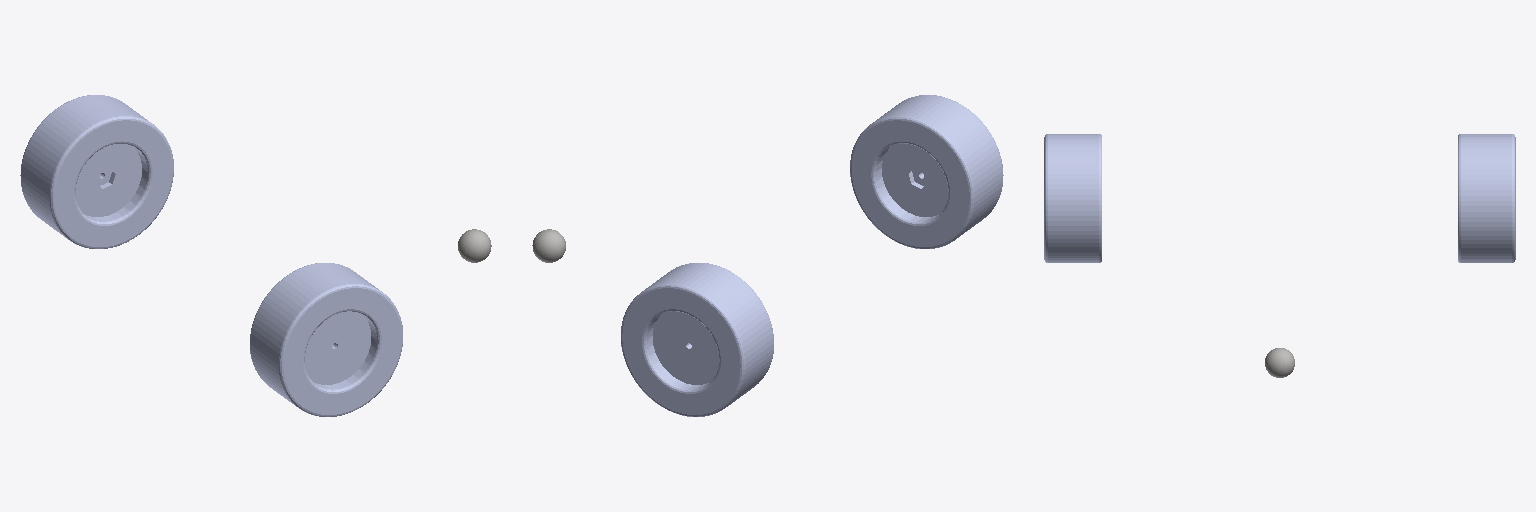
The robot description file, URDF, robot "uvc_robot":
<?xml version="1.0" encoding="utf-8"?>
<!-- This URDF was automatically created by SolidWorks to URDF Exporter! Originally created by [author] ([email redacted]) 
     Commit Version: 1.6.0-1-g15f4949  Build Version: 1.6.7594.29634
     For more information, please see http://wiki.ros.org/sw_urdf_exporter -->
<robot
  name="uvc_robot">
  <link
    name="base_link">
    <inertial>
      <origin
        xyz="-0.00241248593055055 -0.00445381846492179 0.21144900187448"
        rpy="0 0 0" />
      <mass
        value="11.4280367814686" />
      <inertia
        ixx="0.182172266196687"
        ixy="-0.00038888639424007"
        ixz="0.000144418398704185"
        iyy="0.176671114005378"
        iyz="-4.59187018700196E-05"
        izz="0.122918657382842" />
    </inertial>
    <visual>
      <origin
        xyz="0 0 0"
        rpy="0 0 0" />
      <geometry>
        <mesh
          filename="package://uvc_robot_detailed_description/meshes/base_link.STL" />
      </geometry>
      <material
        name="">
        <color
          rgba="0.752941176470588 0.752941176470588 0.752941176470588 1" />
      </material>
    </visual>
    <collision>
      <origin
        xyz="0 0 0"
        rpy="0 0 0" />
      <geometry>
        <mesh
          filename="package://uvc_robot_detailed_description/meshes/base_link.STL" />
      </geometry>
    </collision>
  </link>
  <link
    name="left_wheel">
    <inertial>
      <origin
        xyz="8.7649354441055E-09 -0.00997993671802441 1.38777878078145E-17"
        rpy="0 0 0" />
      <mass
        value="0.166339919940139" />
      <inertia
        ixx="0.000101688927956429"
        ixy="-5.99217070388686E-11"
        ixz="1.02384751853912E-21"
        iyy="0.000169917022931273"
        iyz="2.00388360795128E-21"
        izz="0.000101688927956377" />
    </inertial>
    <visual>
      <origin
        xyz="0 0 0"
        rpy="0 0 0" />
      <geometry>
        <mesh
          filename="package://uvc_robot_detailed_description/meshes/left_wheel.STL" />
      </geometry>
      <material
        name="">
        <color
          rgba="0.792156862745098 0.819607843137255 0.933333333333333 1" />
      </material>
    </visual>
    <collision>
      <origin
        xyz="0 0 0"
        rpy="0 0 0" />
      <geometry>
        <mesh
          filename="package://uvc_robot_detailed_description/meshes/left_wheel.STL" />
      </geometry>
    </collision>
  </link>
  <joint
    name="left_joint"
    type="continuous">
    <origin
      xyz="-0.084764 0.14591 0.0155"
      rpy="0 0 0" />
    <parent
      link="base_link" />
    <child
      link="left_wheel" />
    <axis
      xyz="0 -1 0" />
    <limit
      effort="10"
      velocity="10" />
  </joint>
  <link
    name="right_wheel">
    <inertial>
      <origin
        xyz="-8.7649353330832E-09 0.00997993671802444 0"
        rpy="0 0 0" />
      <mass
        value="0.166339919940139" />
      <inertia
        ixx="0.000101688927956429"
        ixy="-5.99217070341858E-11"
        ixz="3.56666708735343E-21"
        iyy="0.000169917022931273"
        iyz="-4.05548364010479E-21"
        izz="0.000101688927956377" />
    </inertial>
    <visual>
      <origin
        xyz="0 0 0"
        rpy="0 0 0" />
      <geometry>
        <mesh
          filename="package://uvc_robot_detailed_description/meshes/right_wheel.STL" />
      </geometry>
      <material
        name="">
        <color
          rgba="0.792156862745098 0.819607843137255 0.933333333333333 1" />
      </material>
    </visual>
    <collision>
      <origin
        xyz="0 0 0"
        rpy="0 0 0" />
      <geometry>
        <mesh
          filename="package://uvc_robot_detailed_description/meshes/right_wheel.STL" />
      </geometry>
    </collision>
  </link>
  <joint
    name="right_joint"
    type="continuous">
    <origin
      xyz="-0.084764 -0.14609 0.0155"
      rpy="0 0 0" />
    <parent
      link="base_link" />
    <child
      link="right_wheel" />
    <axis
      xyz="0 -1 0" />
    <limit
      effort="10"
      velocity="10" />
  </joint>
  <link
    name="caster_wheel">
    <inertial>
      <origin
        xyz="0 -3.46944695195361E-18 0"
        rpy="0 0 0" />
      <mass
        value="0.0328820031075732" />
      <inertia
        ixx="1.31528012430293E-06"
        ixy="-7.87848134036453E-23"
        ixz="5.22254132630542E-23"
        iyy="1.31528012430293E-06"
        iyz="-4.4156881248831E-23"
        izz="1.31528012430293E-06" />
    </inertial>
    <visual>
      <origin
        xyz="0 0 0"
        rpy="0 0 0" />
      <geometry>
        <mesh
          filename="package://uvc_robot_detailed_description/meshes/caster_wheel.STL" />
      </geometry>
      <material
        name="">
        <color
          rgba="0.741176470588235 0.733333333333333 0.725490196078431 1" />
      </material>
    </visual>
    <collision>
      <origin
        xyz="0 0 0"
        rpy="0 0 0" />
      <geometry>
        <mesh
          filename="package://uvc_robot_detailed_description/meshes/caster_wheel.STL" />
      </geometry>
    </collision>
  </link>
  <joint
    name="caster_joint"
    type="continuous">
    <origin
      xyz="0.095236 -9.1106E-05 -0.02"
      rpy="0 0 0" />
    <parent
      link="base_link" />
    <child
      link="caster_wheel" />
    <axis
      xyz="1 0 0" />
    <limit
      effort="10"
      velocity="10" />
  </joint>
  <gazebo>
  <plugin name="differential_drive_controller" filename="libgazebo_ros_diff_drive.so">
    <leftJoint>left_joint</leftJoint>
    <rightJoint>right_joint</rightJoint>
    <wheelSeparation>0.272</wheelSeparation>
    <wheelDiameter>0.085</wheelDiameter>
    <wheelAcceleration>1.0</wheelAcceleration>
    <wheelTorque>20</wheelTorque>
    <commandTopic>cmd_vel</commandTopic>
    <odometryTopic>odom</odometryTopic>
    <odometryFrame>odom</odometryFrame>
    <robotBaseFrame>base_footprint</robotBaseFrame>
    <odometrySource>1</odometrySource>
    <publishWheelTF>true</publishWheelTF>
    <publishOdom>true</publishOdom>
    <publishWheelJointState>true</publishWheelJointState>
    <legacyMode>false</legacyMode>
  </plugin>
</gazebo>
</robot>

--- Facts derived from the render (not from the file) ---
Views: 3 orthographic renders of the robot side by side, from view 1: azimuth 30°, elevation 25°; view 2: azimuth 150°, elevation 25°; view 3: azimuth 270°, elevation 25°.
Model uvc_robot with 4 links and 3 joints (3 continuous), rooted at base_link, posed every joint at zero.
Links seen in each view (by area): view 1: left_wheel, right_wheel, caster_wheel; view 2: right_wheel, left_wheel, caster_wheel; view 3: left_wheel, right_wheel, caster_wheel.
Link boxes in pixels (x1,y1,x2,y2): left_wheel: [20, 95, 173, 248]; right_wheel: [250, 263, 402, 416]; caster_wheel: [458, 229, 491, 262]; right_wheel: [850, 95, 1003, 248]; left_wheel: [621, 263, 773, 416]; caster_wheel: [532, 229, 565, 262]; left_wheel: [1458, 134, 1515, 262]; right_wheel: [1044, 134, 1101, 262]; caster_wheel: [1265, 348, 1294, 377].
Bounding box of the posed robot: 0.2325 × 0.31 × 0.088 m (x, y, z).
Meshes: 4 distinct files referenced, 3 mesh visuals loaded (3 binary STL); not drawn: 1 (reference not matched to a file when rendering).